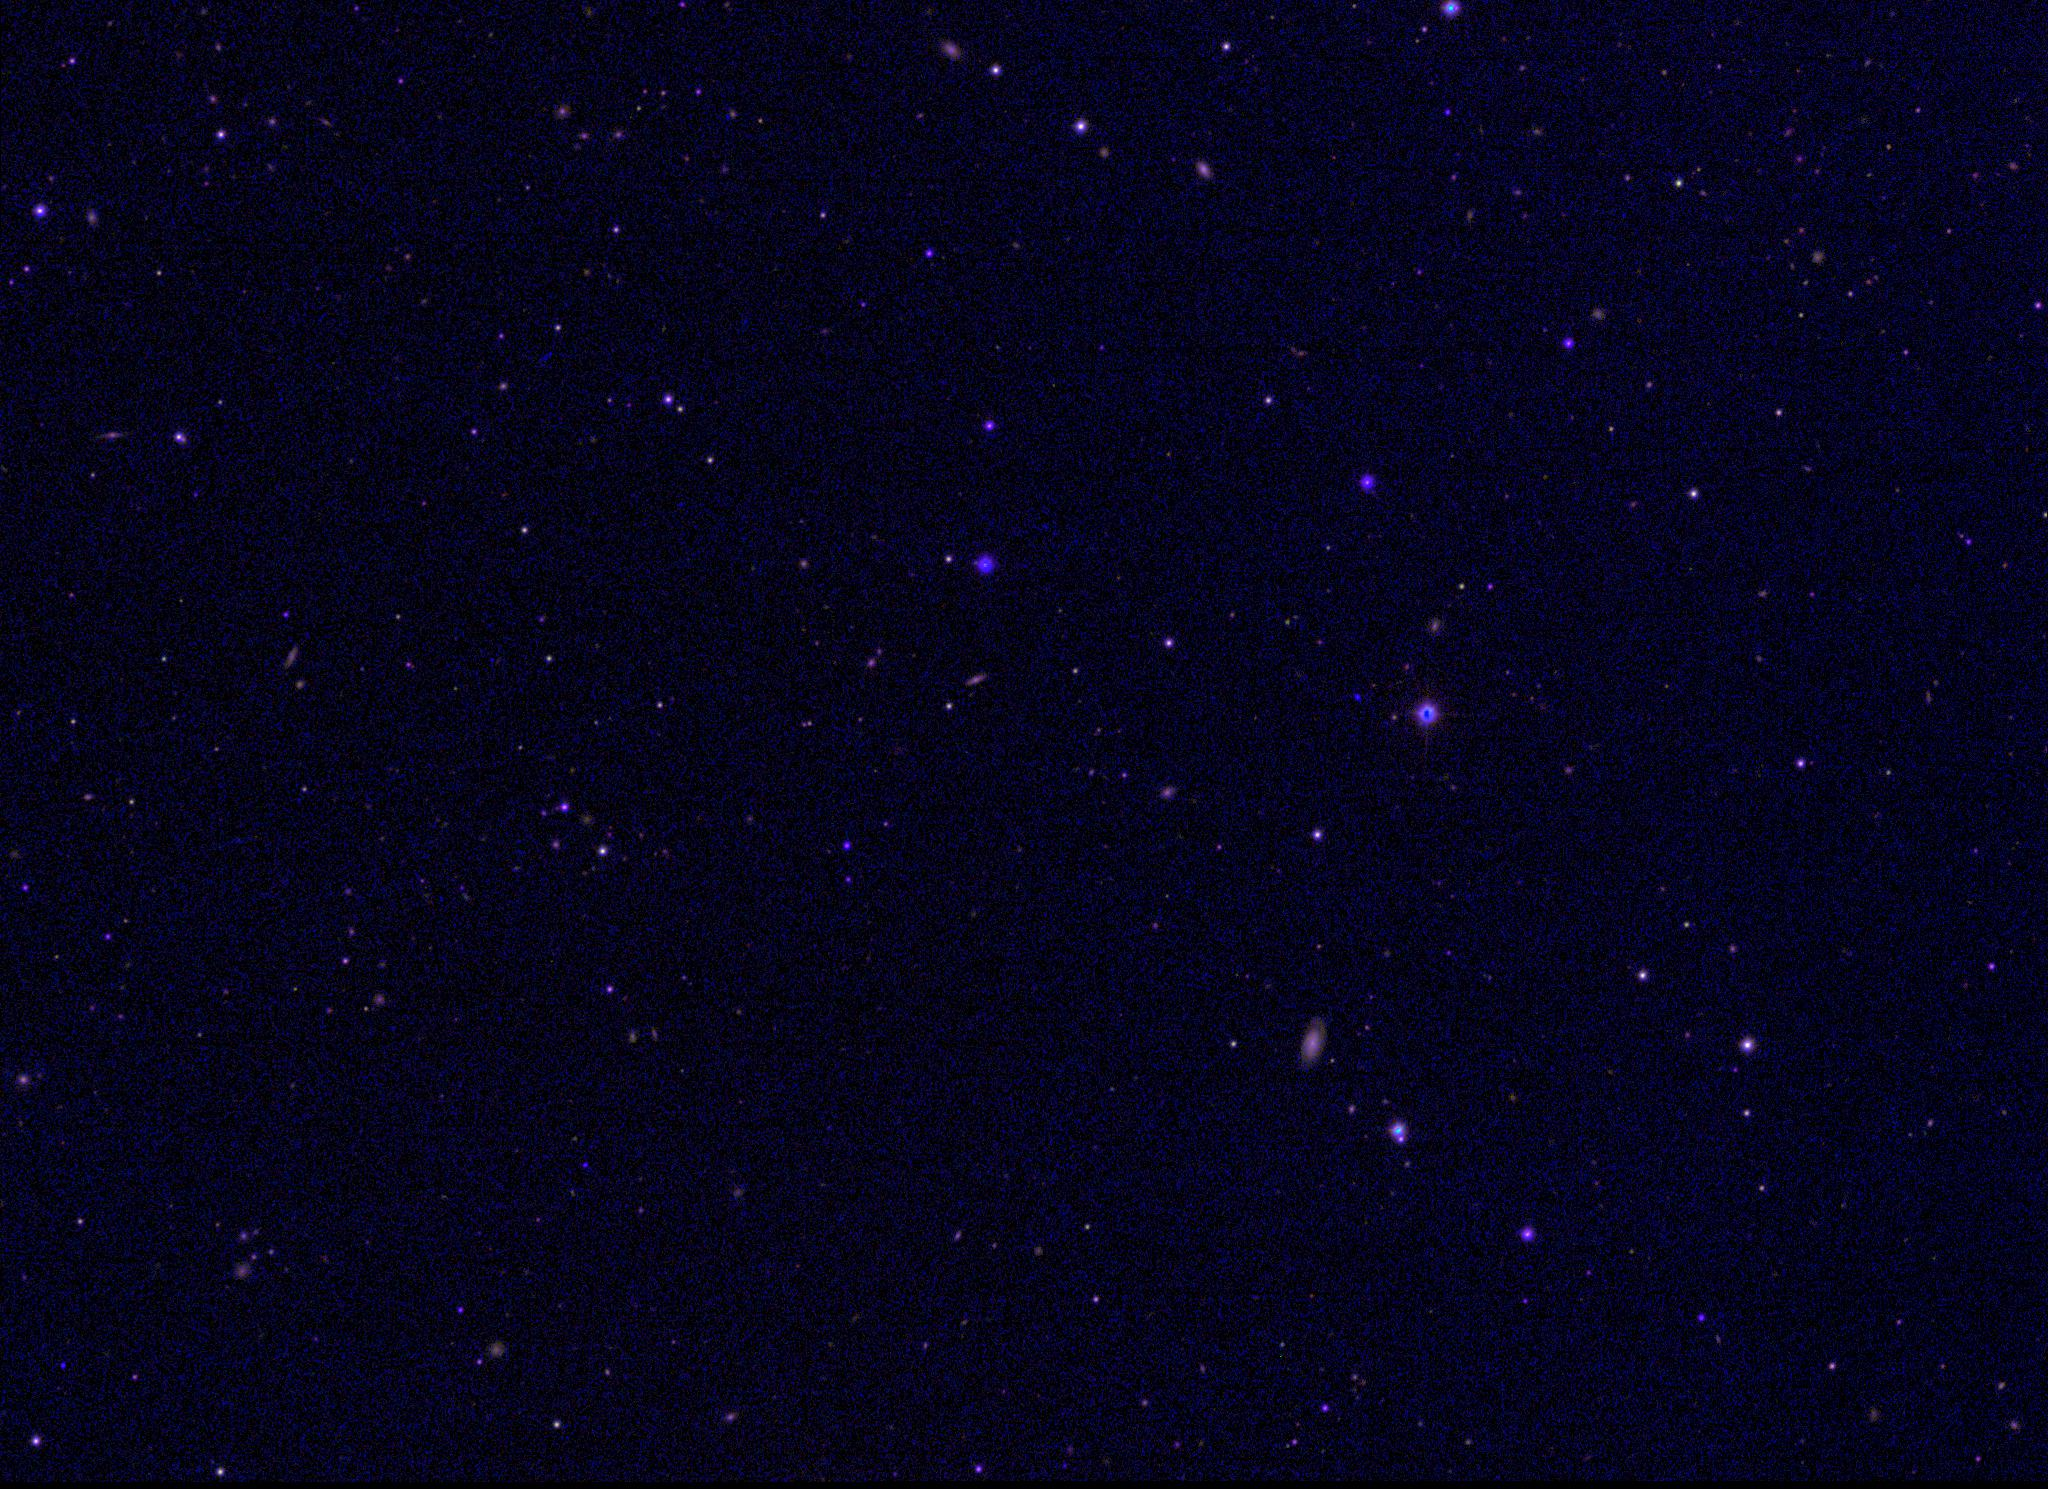L: (1350, 687, 1364, 702)
